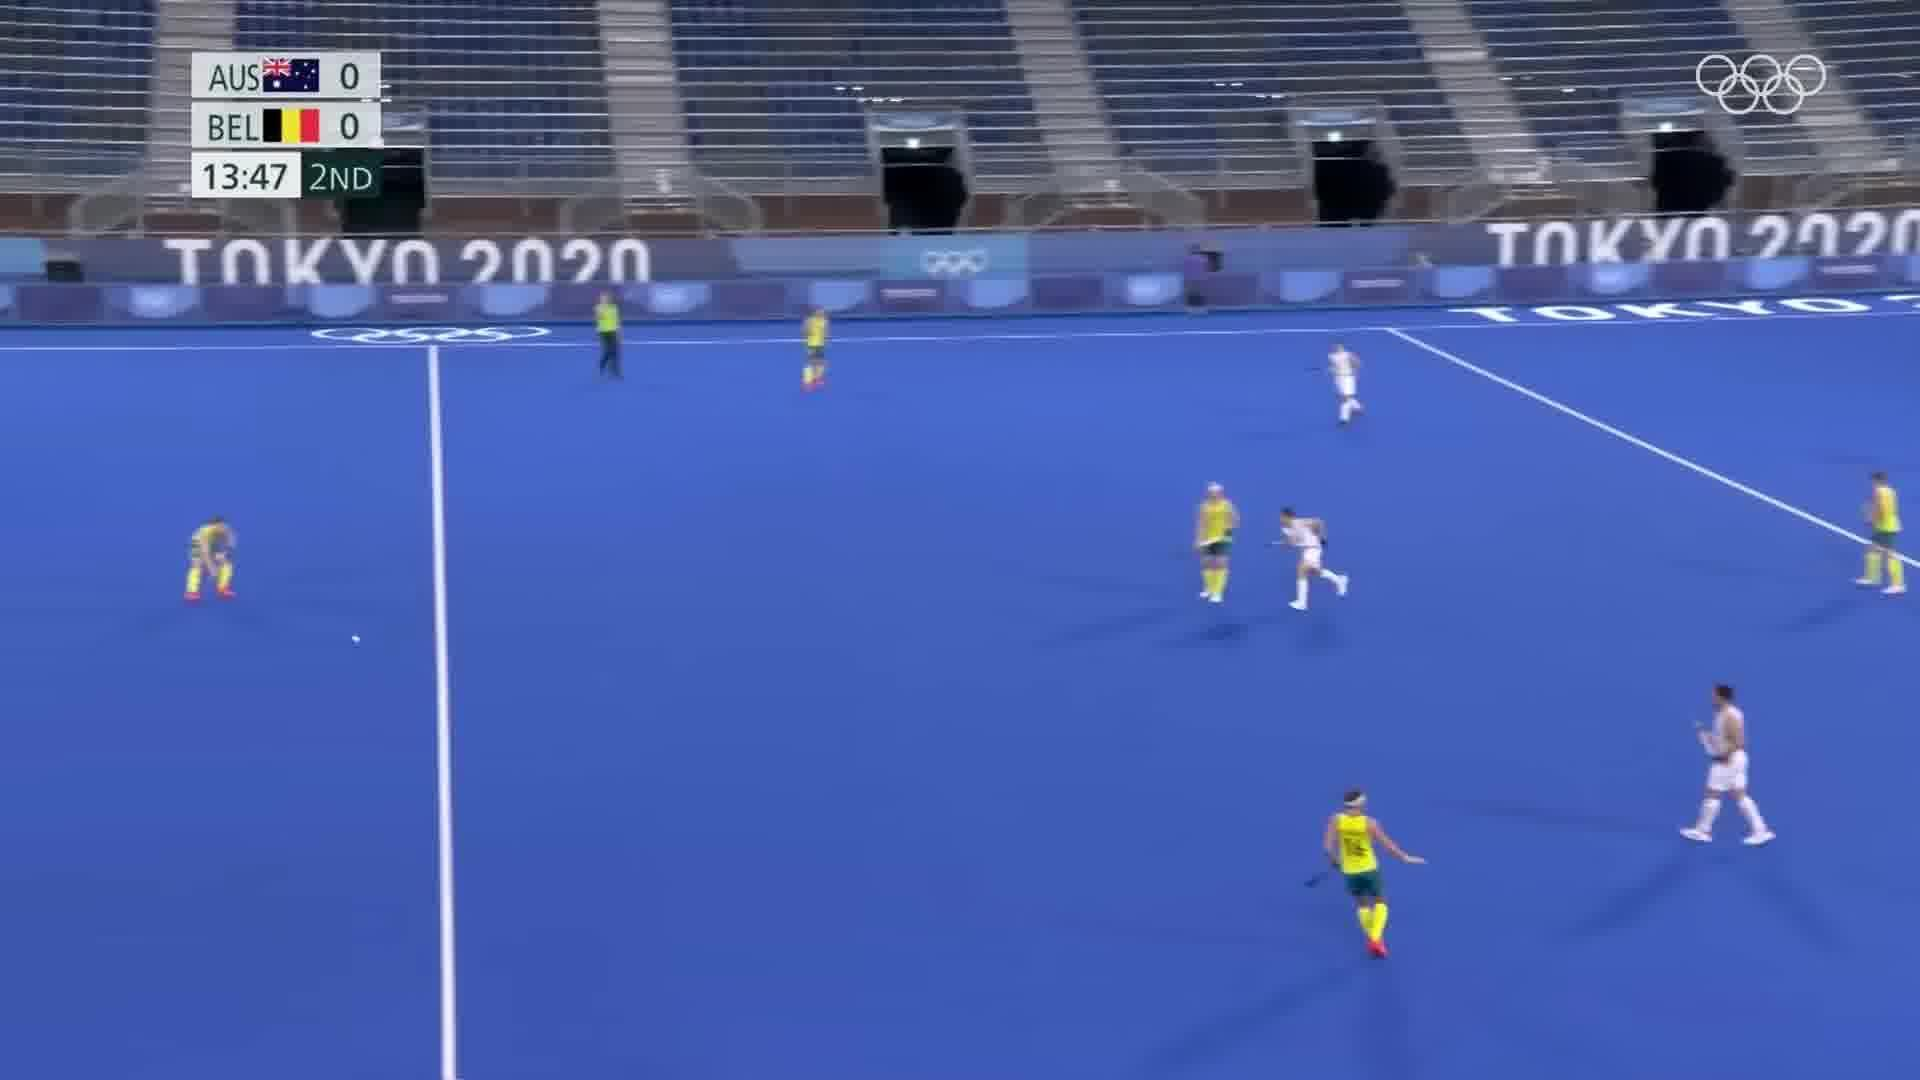ball: (347, 629, 369, 653)
